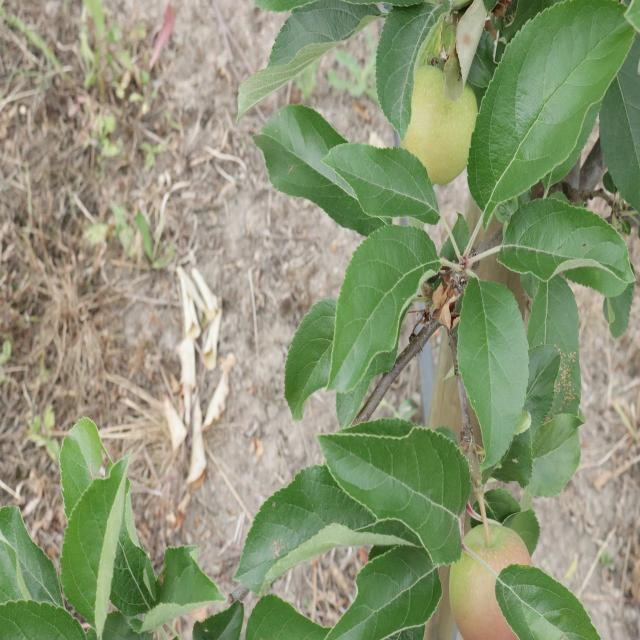-FireBlight-: (423, 283, 457, 323)
